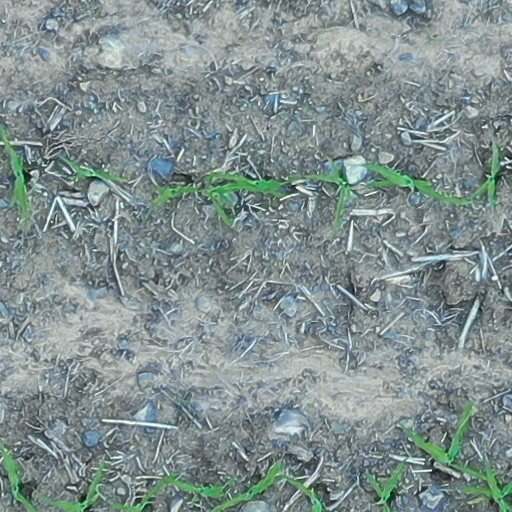planta: (400, 404, 483, 478), (365, 161, 473, 205), (306, 160, 351, 231), (207, 170, 299, 198), (469, 147, 500, 207), (61, 155, 127, 182), (205, 172, 233, 223), (163, 476, 224, 497), (151, 185, 196, 209)
